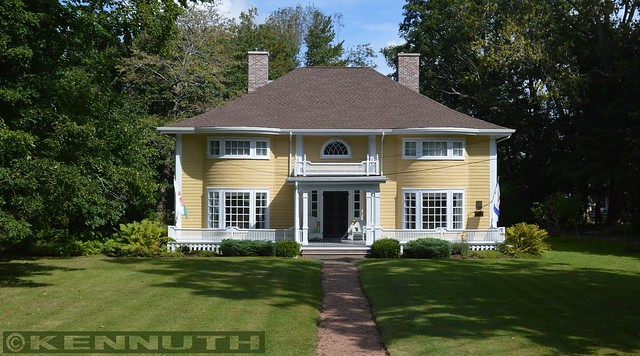low: (153, 51, 514, 260)
